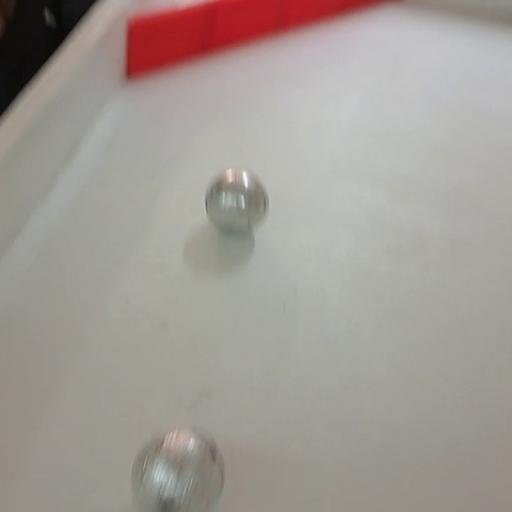alive: (128, 424, 225, 512), (202, 164, 273, 238)
